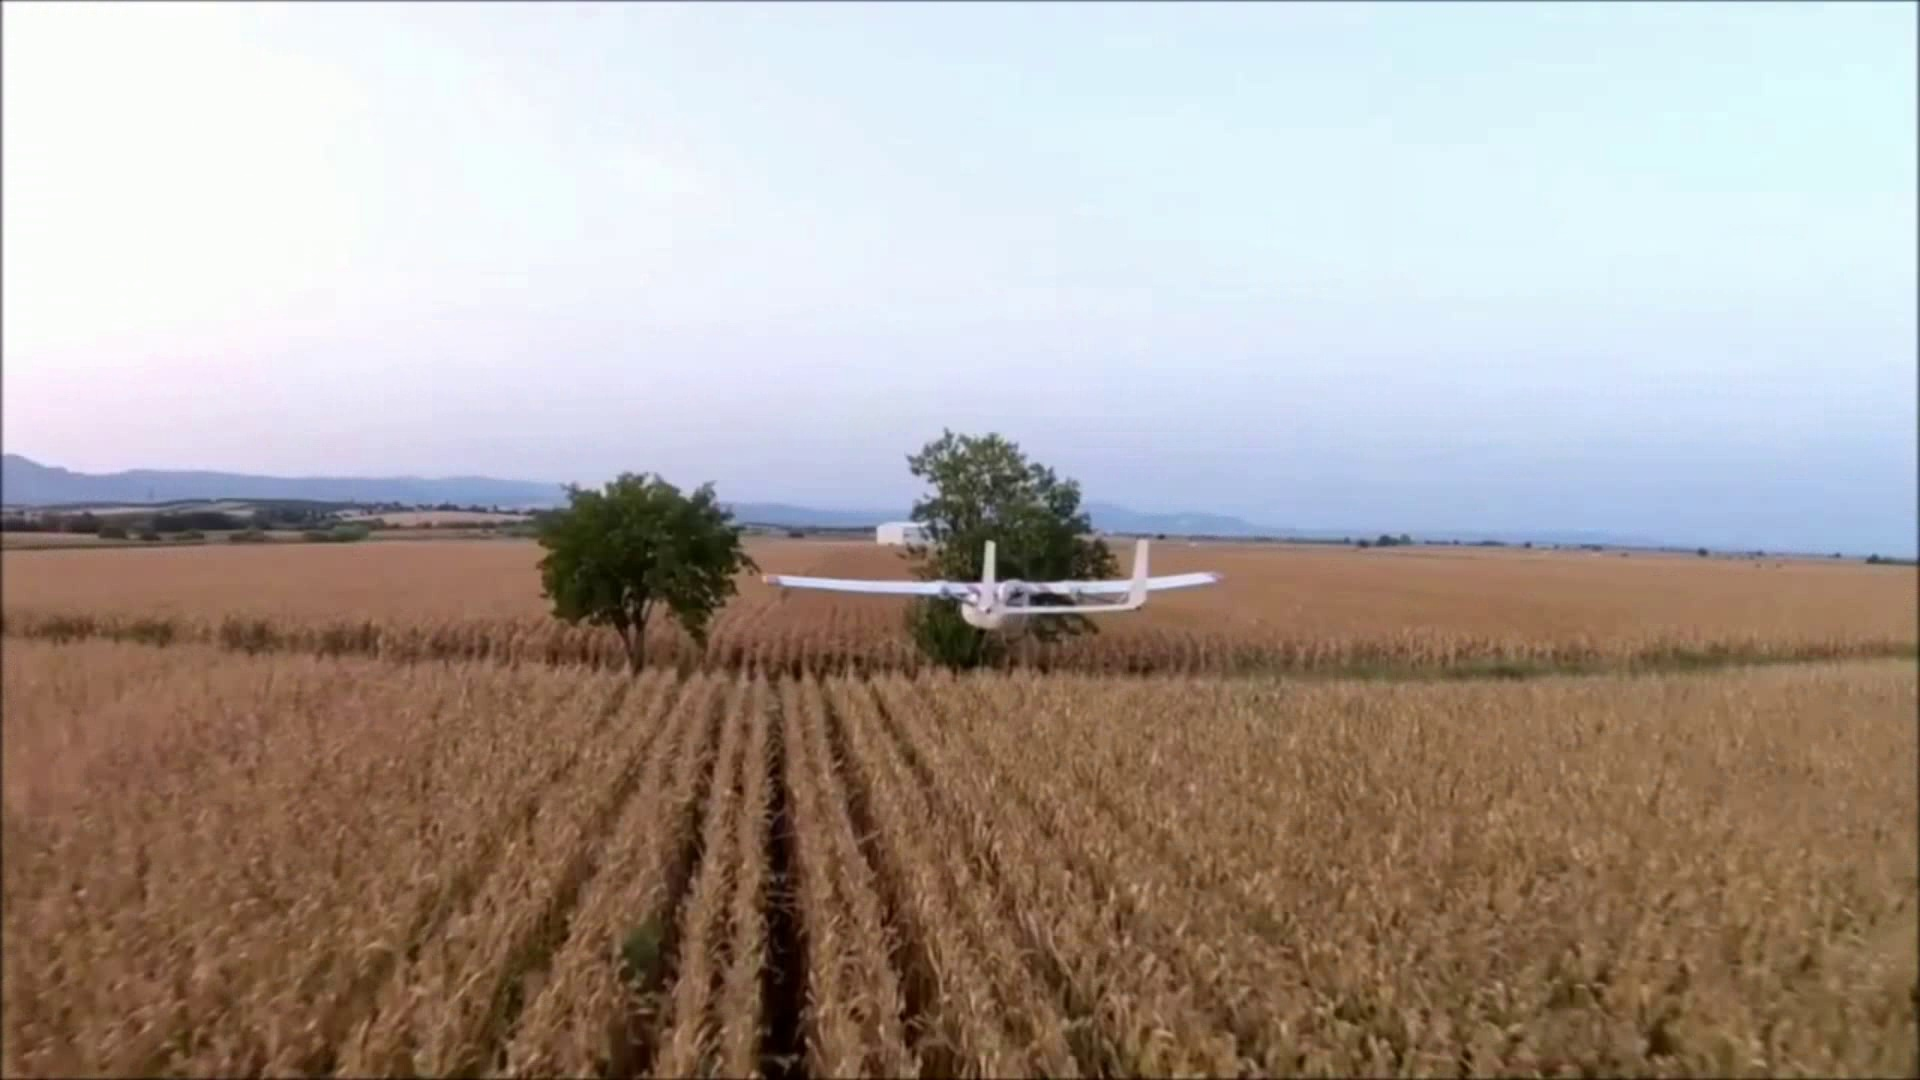airplane: (741, 546, 1225, 645)
